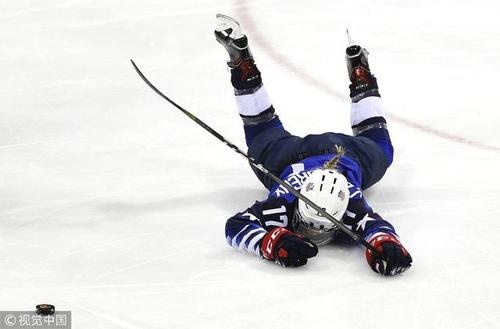falling: (198, 15, 417, 272)
